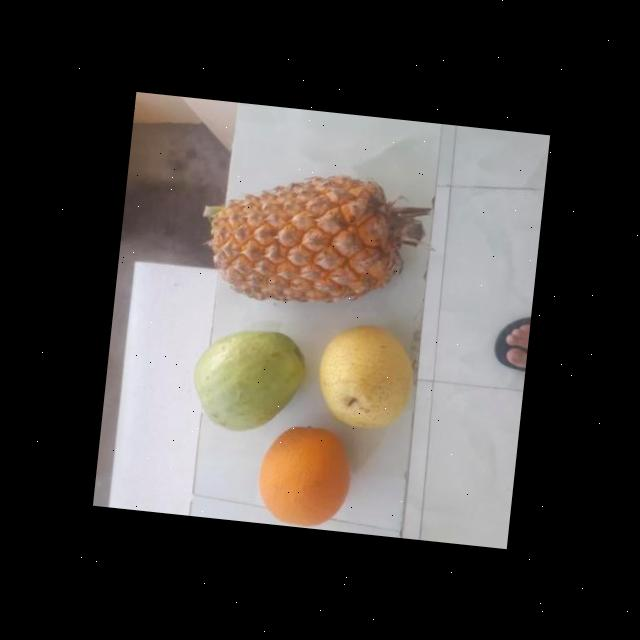guava: (190, 320, 304, 434)
orange: (252, 421, 354, 532)
pear: (312, 316, 418, 434)
pineapple: (202, 162, 408, 310)
